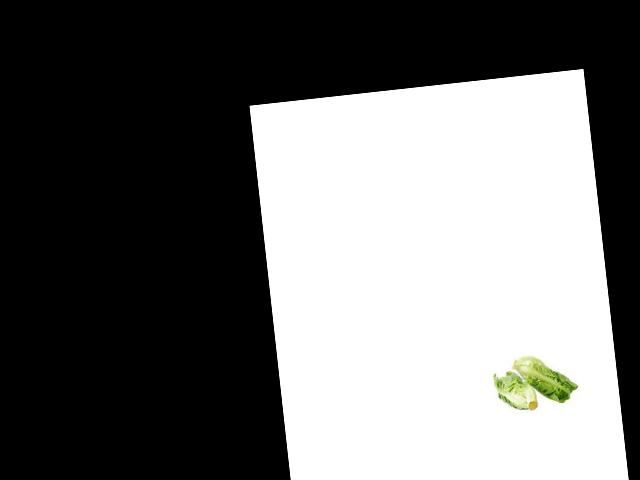lettuce: (521, 305, 636, 417)
